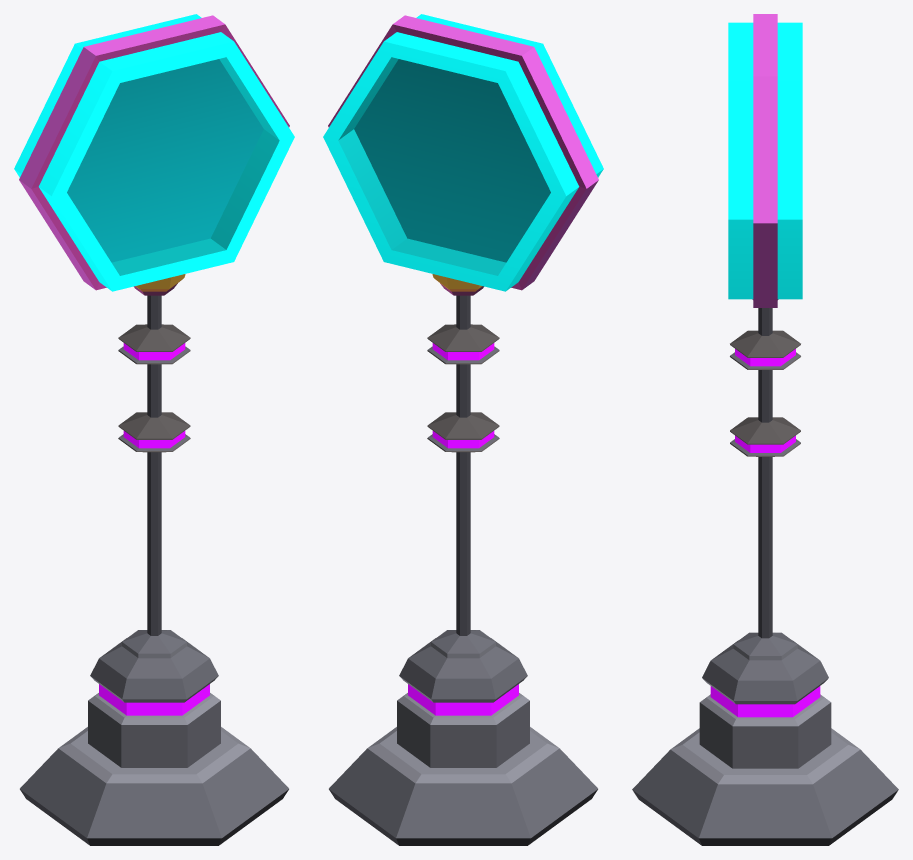
Rendered from SignPost_Neon_Circle.glb.
3 renders of one model, left to right at view 1: azimuth 30°, elevation 25°; view 2: azimuth 150°, elevation 25°; view 3: azimuth 270°, elevation 25°, orthographic.
Visible parts, largest first — view 1: SciFi_SignPostCircle; view 2: SciFi_SignPostCircle; view 3: SciFi_SignPostCircle.
Boxes of the visible parts, <box> form: SciFi_SignPostCircle: <box>14,14,294,845</box>; SciFi_SignPostCircle: <box>323,14,603,845</box>; SciFi_SignPostCircle: <box>632,14,898,845</box>.
Size of what is drawn, in the model's own units: 0.9286 by 2.62 by 0.8392.
1 material, 1 textured.
